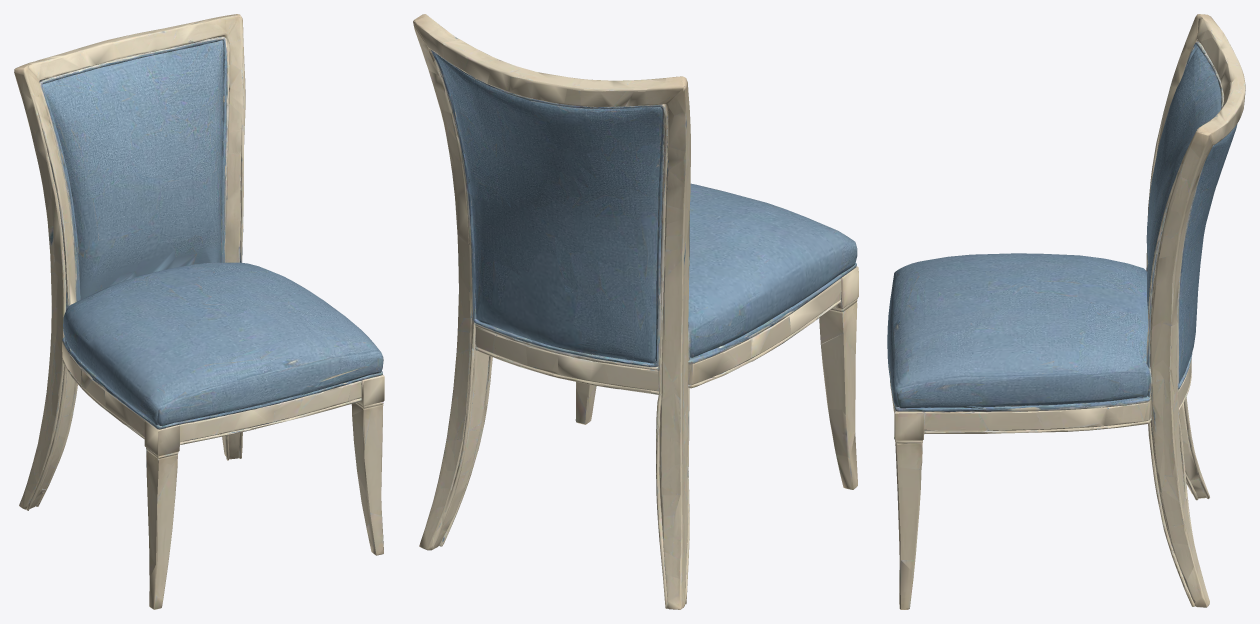
Rendered from upm_mv3pqhsk1te.glb.
3 views of the same model, side by side, from view 1: azimuth 30°, elevation 25°; view 2: azimuth 150°, elevation 25°; view 3: azimuth 270°, elevation 25° (orthographic). The views are drawn at different scales.
Bounding box in the file's own units: 1.04 × 1.9 × 1.29.
1 material, 1 textured.
